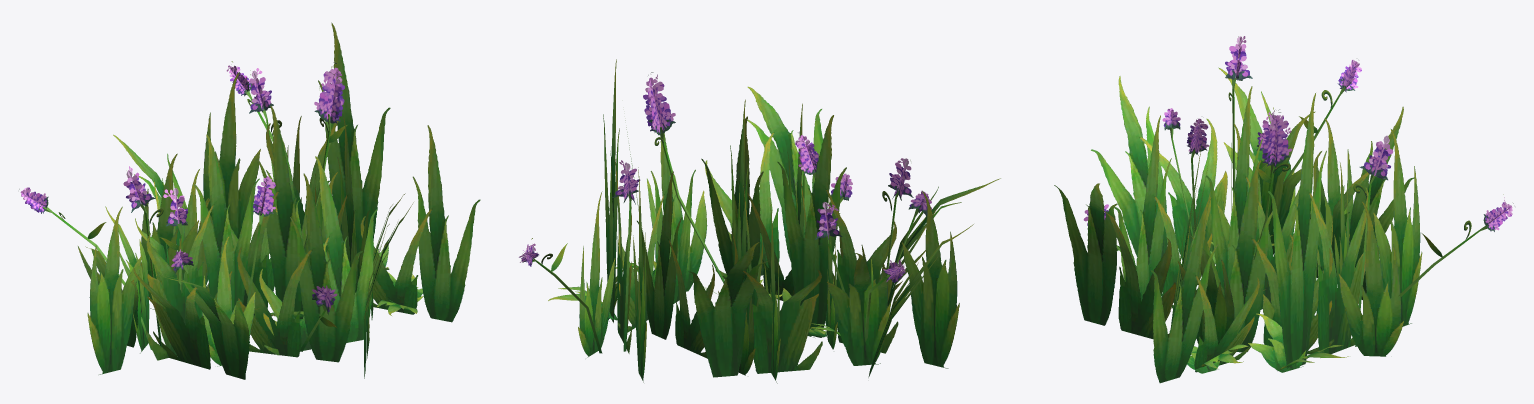
The model's file is ZhuCheng_Cao_02.fbx.
3 renders of one model, left to right at view 1: azimuth 30°, elevation 25°; view 2: azimuth 150°, elevation 25°; view 3: azimuth 270°, elevation 25°, orthographic. The views are drawn at different scales.
Visible parts, largest first — view 1: ZhuCheng_Cao_02; view 2: ZhuCheng_Cao_02; view 3: ZhuCheng_Cao_02.
Part boxes in pixels (x1,y1,x2,y2): ZhuCheng_Cao_02: (19, 22, 480, 379); ZhuCheng_Cao_02: (519, 59, 1000, 383); ZhuCheng_Cao_02: (1054, 36, 1513, 383).
Size of the model in its own units: 1.55 by 0.9668 by 1.46.
